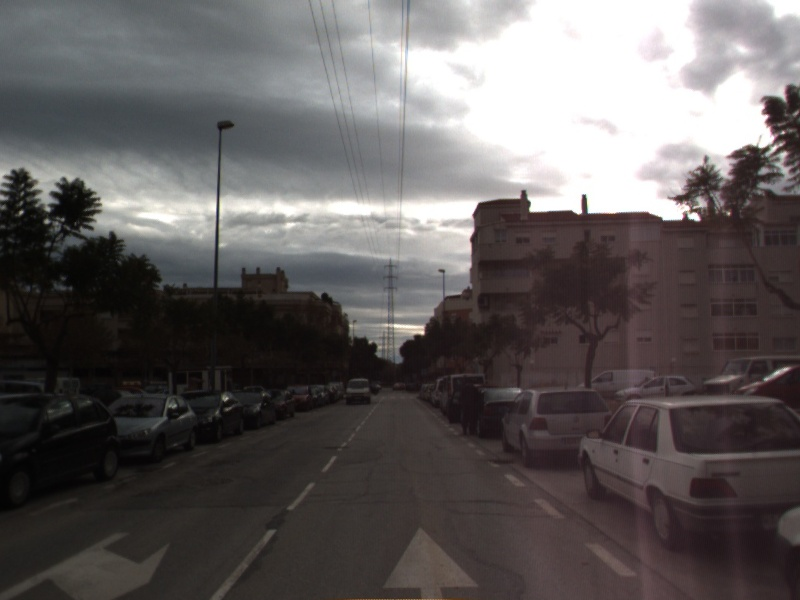STRAIGHT: (379, 522, 483, 600)
